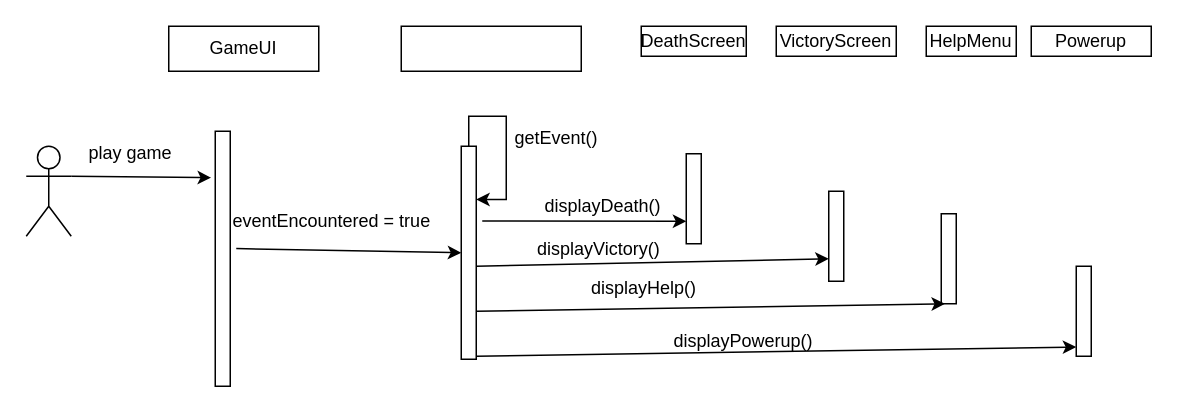
Image size: 1178x413. Some labels were removed from this diagram. Each missing label, with the box of its shape:
Event: (400, 25, 581, 71)
User: (25, 145, 71, 236)
